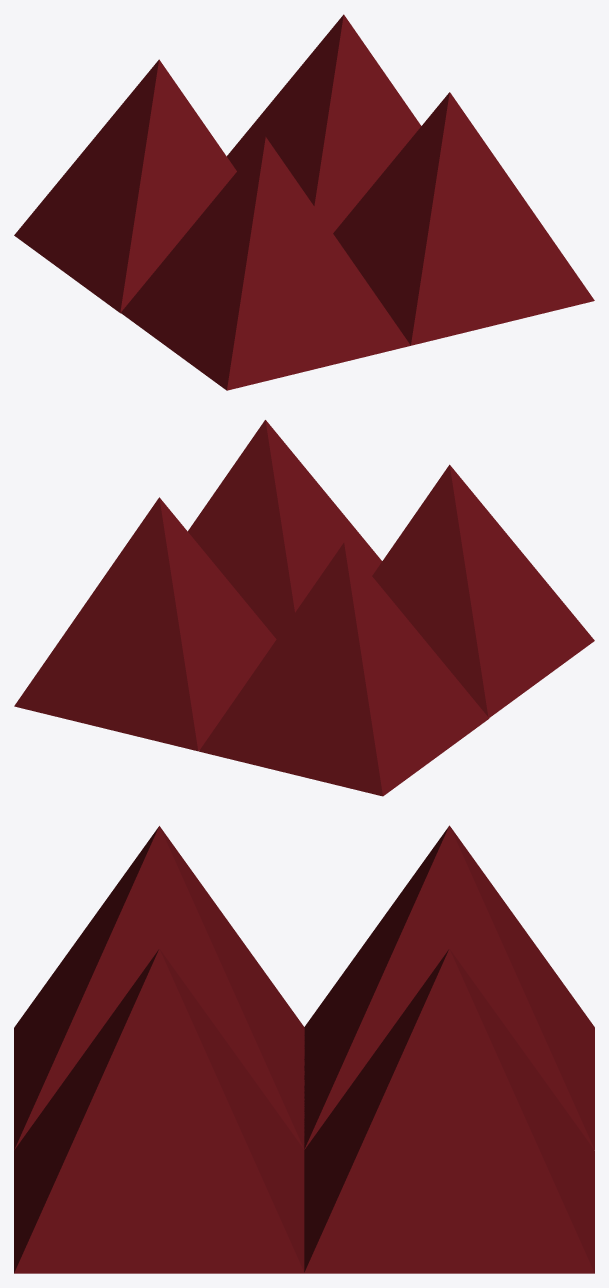
The model's file is pinchos.fbx.
3 views of the same model, one above another, from view 1: azimuth 30°, elevation 25°; view 2: azimuth 150°, elevation 25°; view 3: azimuth 270°, elevation 25° (orthographic). The views are drawn at different scales.
Visible parts, largest first — view 1: Cube.001; view 2: Cube.001; view 3: Cube.001.
Boxes of the visible parts, box(x1,y1,x2,y2) form: Cube.001: box(14, 14, 594, 390); Cube.001: box(14, 420, 594, 796); Cube.001: box(14, 825, 594, 1273).
Bounding box in the file's own units: 201 × 100 × 200.
